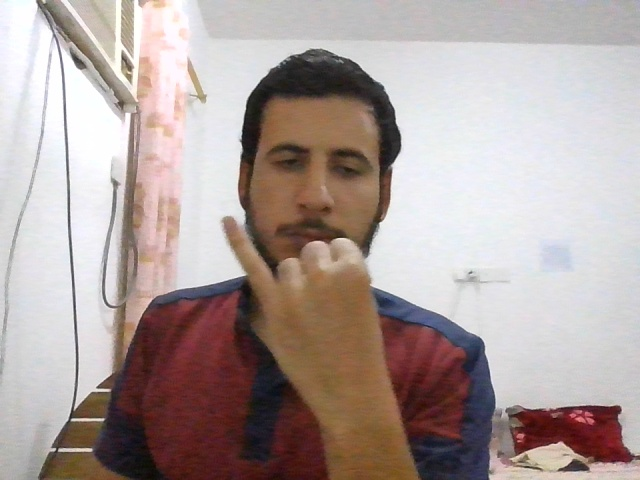One: (219, 216, 394, 393)
